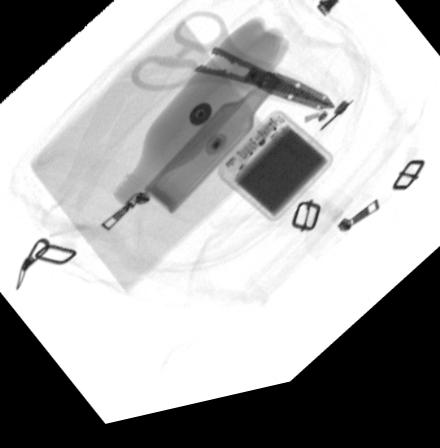Powerbank: (217, 120, 335, 232)
Scissors: (130, 16, 335, 127)
